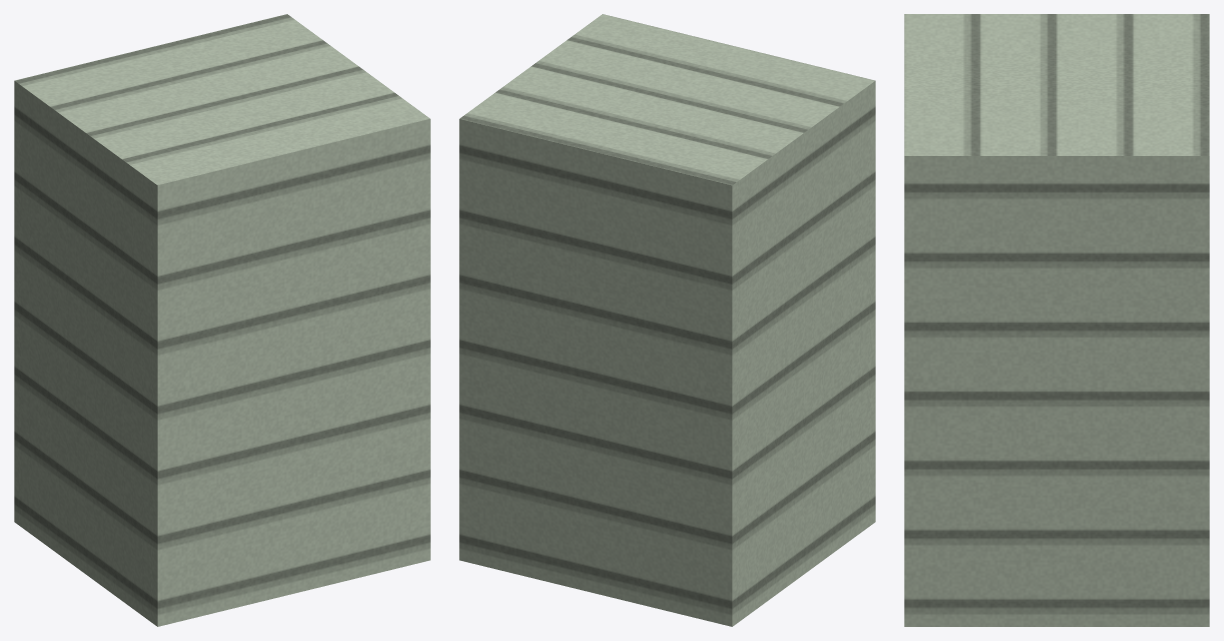
Rendered from utility_sink.glb.
The picture shows the model from 3 angles, left to right: view 1: azimuth 30°, elevation 25°; view 2: azimuth 150°, elevation 25°; view 3: azimuth 270°, elevation 25°; orthographic projection. The views are drawn at different scales.
Visible parts, largest first — view 1: utility_sink-col; view 2: utility_sink-col; view 3: utility_sink-col.
Boxes of the visible parts, bbox=[...] form: utility_sink-col: bbox=[14, 14, 430, 626]; utility_sink-col: bbox=[459, 14, 875, 626]; utility_sink-col: bbox=[904, 14, 1209, 626].
Bounding box in the file's own units: 0.55 × 0.85 × 0.5.
Materials: 1 (1 with a texture image).
